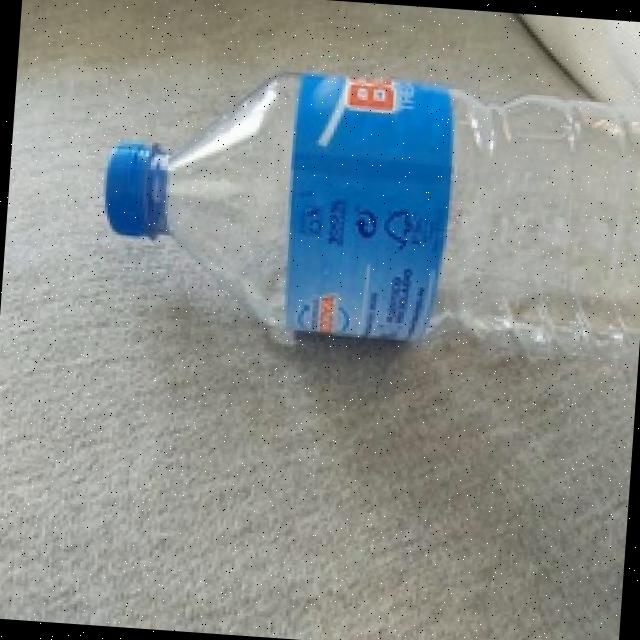bottle: (81, 52, 640, 379)
cap: (93, 136, 167, 249)
label: (282, 69, 446, 349)
